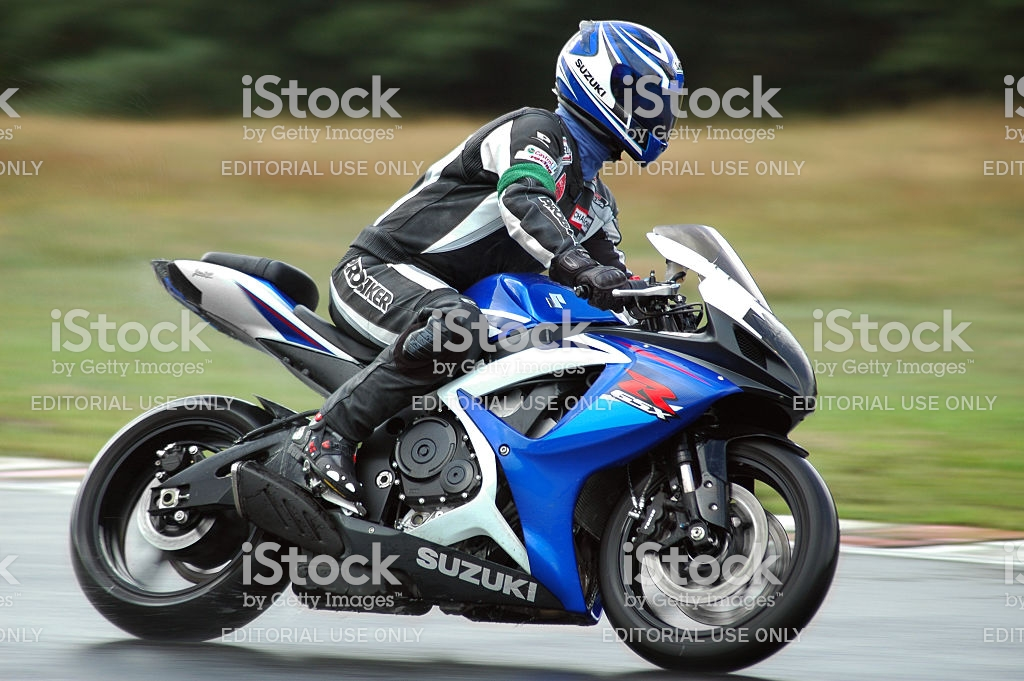helmet: (558, 19, 682, 165)
